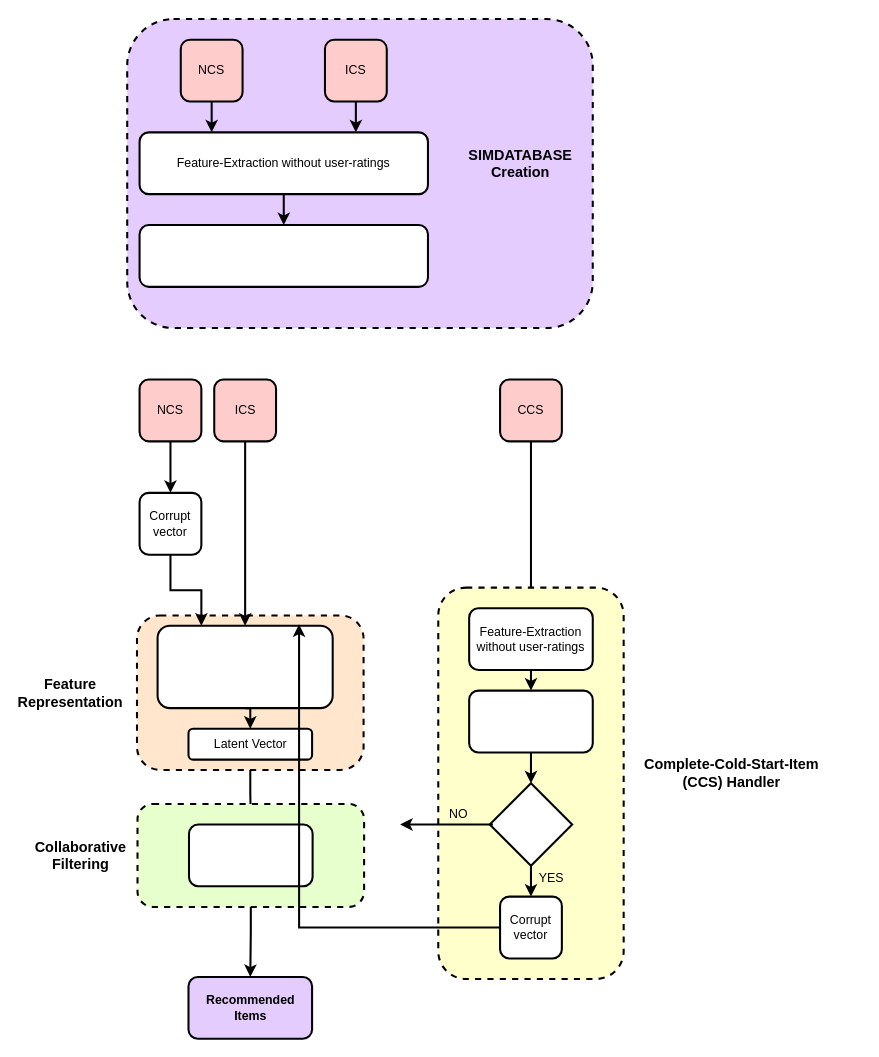
Image size: 879x1057. Some labels were removed from this diagram. The shapes that lost their labels are listed below. From the top down, each one's centre as x and y in pixels, then its label:
At point (283, 255): "Create database for Item similarities based on cosine-similarity (SIMDATABASE)".
At point (244, 666): "AutoEncoder".
At point (530, 721): "Find similar item on SIMDATABASE".
At point (530, 824): "Is NCS?".
At point (250, 855): "timeSVD++".
